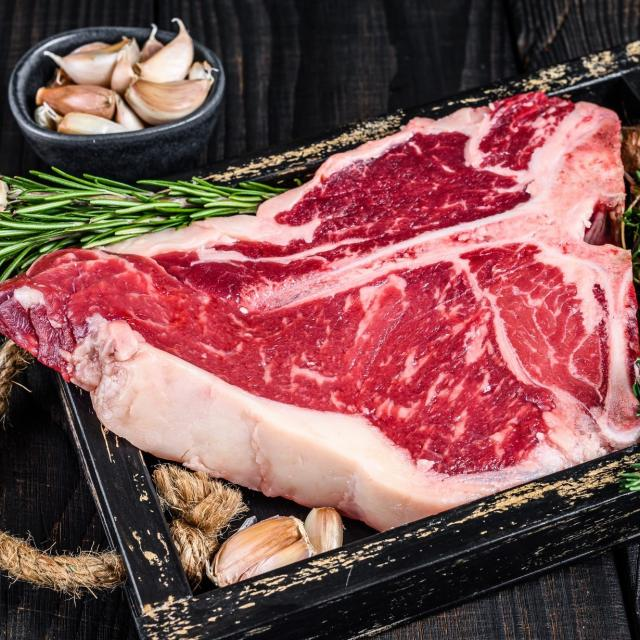Beef: (0, 92, 640, 531)
